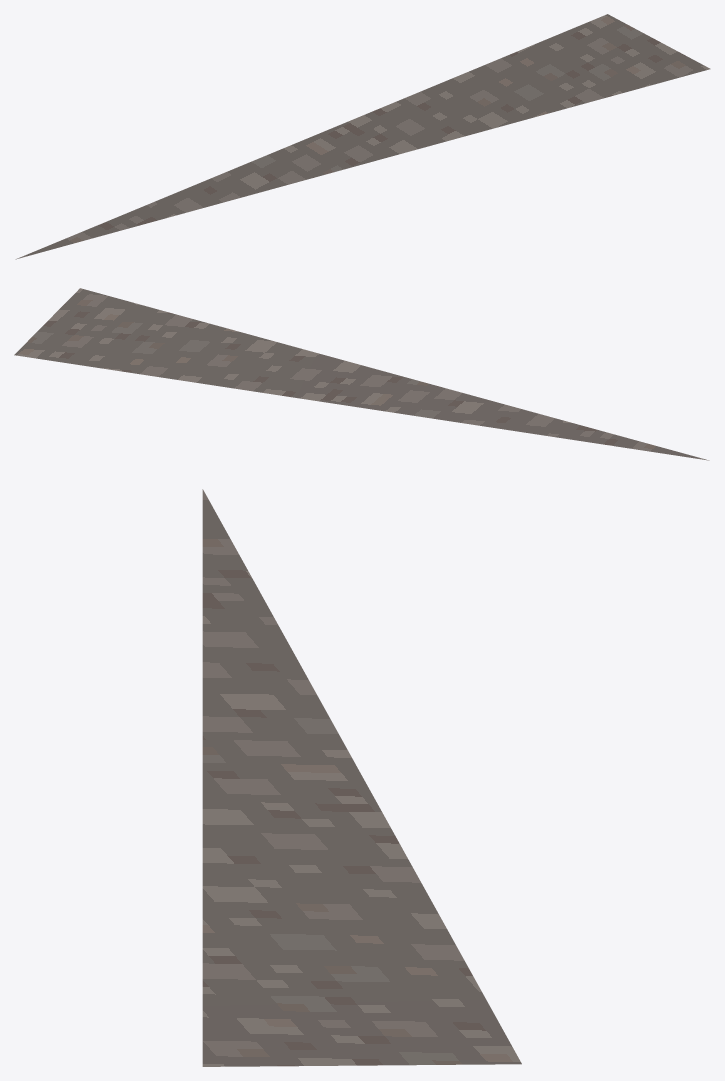
Rendered from kd_stage_135c43_4_139_bounded_piece_5.glb.
3 renders of one model, top to bottom at view 1: azimuth 30°, elevation 25°; view 2: azimuth 150°, elevation 25°; view 3: azimuth 270°, elevation 25°, orthographic. The views are drawn at different scales.
Parts seen in each view (by area): view 1: kd_stage_135c43_4_139_bounded_piece_5; view 2: kd_stage_135c43_4_139_bounded_piece_5; view 3: kd_stage_135c43_4_139_bounded_piece_5.
Boxes of the visible parts, <box> form: kd_stage_135c43_4_139_bounded_piece_5: <box>15,14,710,259</box>; kd_stage_135c43_4_139_bounded_piece_5: <box>14,288,709,460</box>; kd_stage_135c43_4_139_bounded_piece_5: <box>202,489,521,1066</box>.
Size of the model in its own units: 0.1996 by 0.0057 by 0.0437.
1 material, 1 textured.
